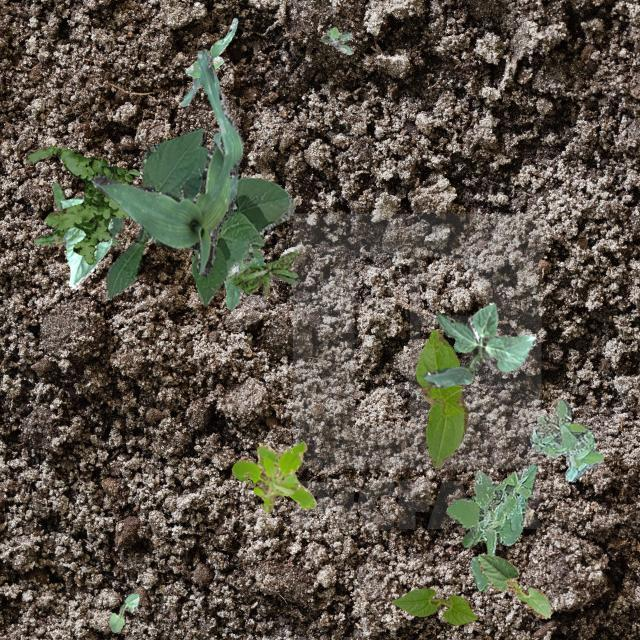crop: (90, 48, 244, 274), (104, 126, 294, 304), (422, 302, 536, 386), (414, 328, 468, 466), (180, 18, 236, 106), (478, 552, 552, 618), (60, 195, 112, 288), (392, 588, 476, 624), (108, 592, 138, 632)
weed: (24, 146, 138, 264), (444, 464, 536, 590), (230, 439, 316, 512), (528, 398, 602, 481), (32, 182, 118, 246), (230, 250, 298, 296), (222, 248, 266, 308), (318, 26, 352, 54)
